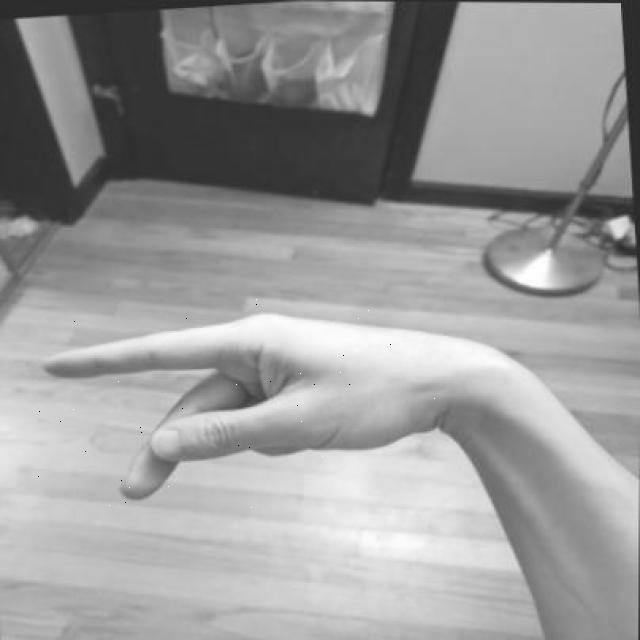P: (32, 295, 458, 517)
